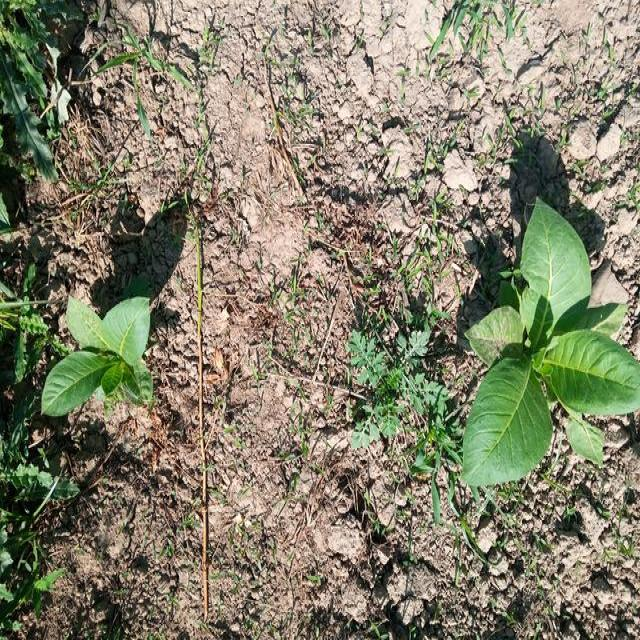crop: (462, 199, 640, 481), (41, 296, 160, 420)
